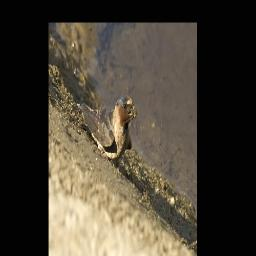Swallow: (79, 95, 136, 163)
